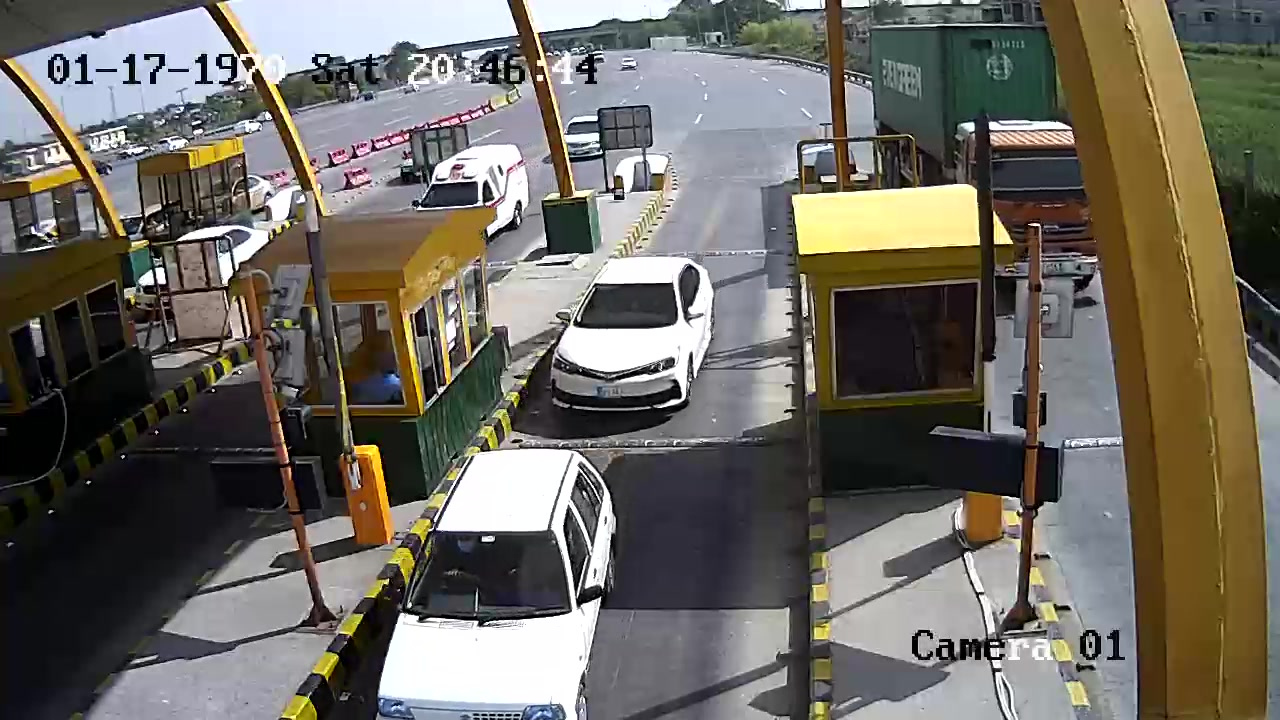F1: (549, 253, 720, 426)
